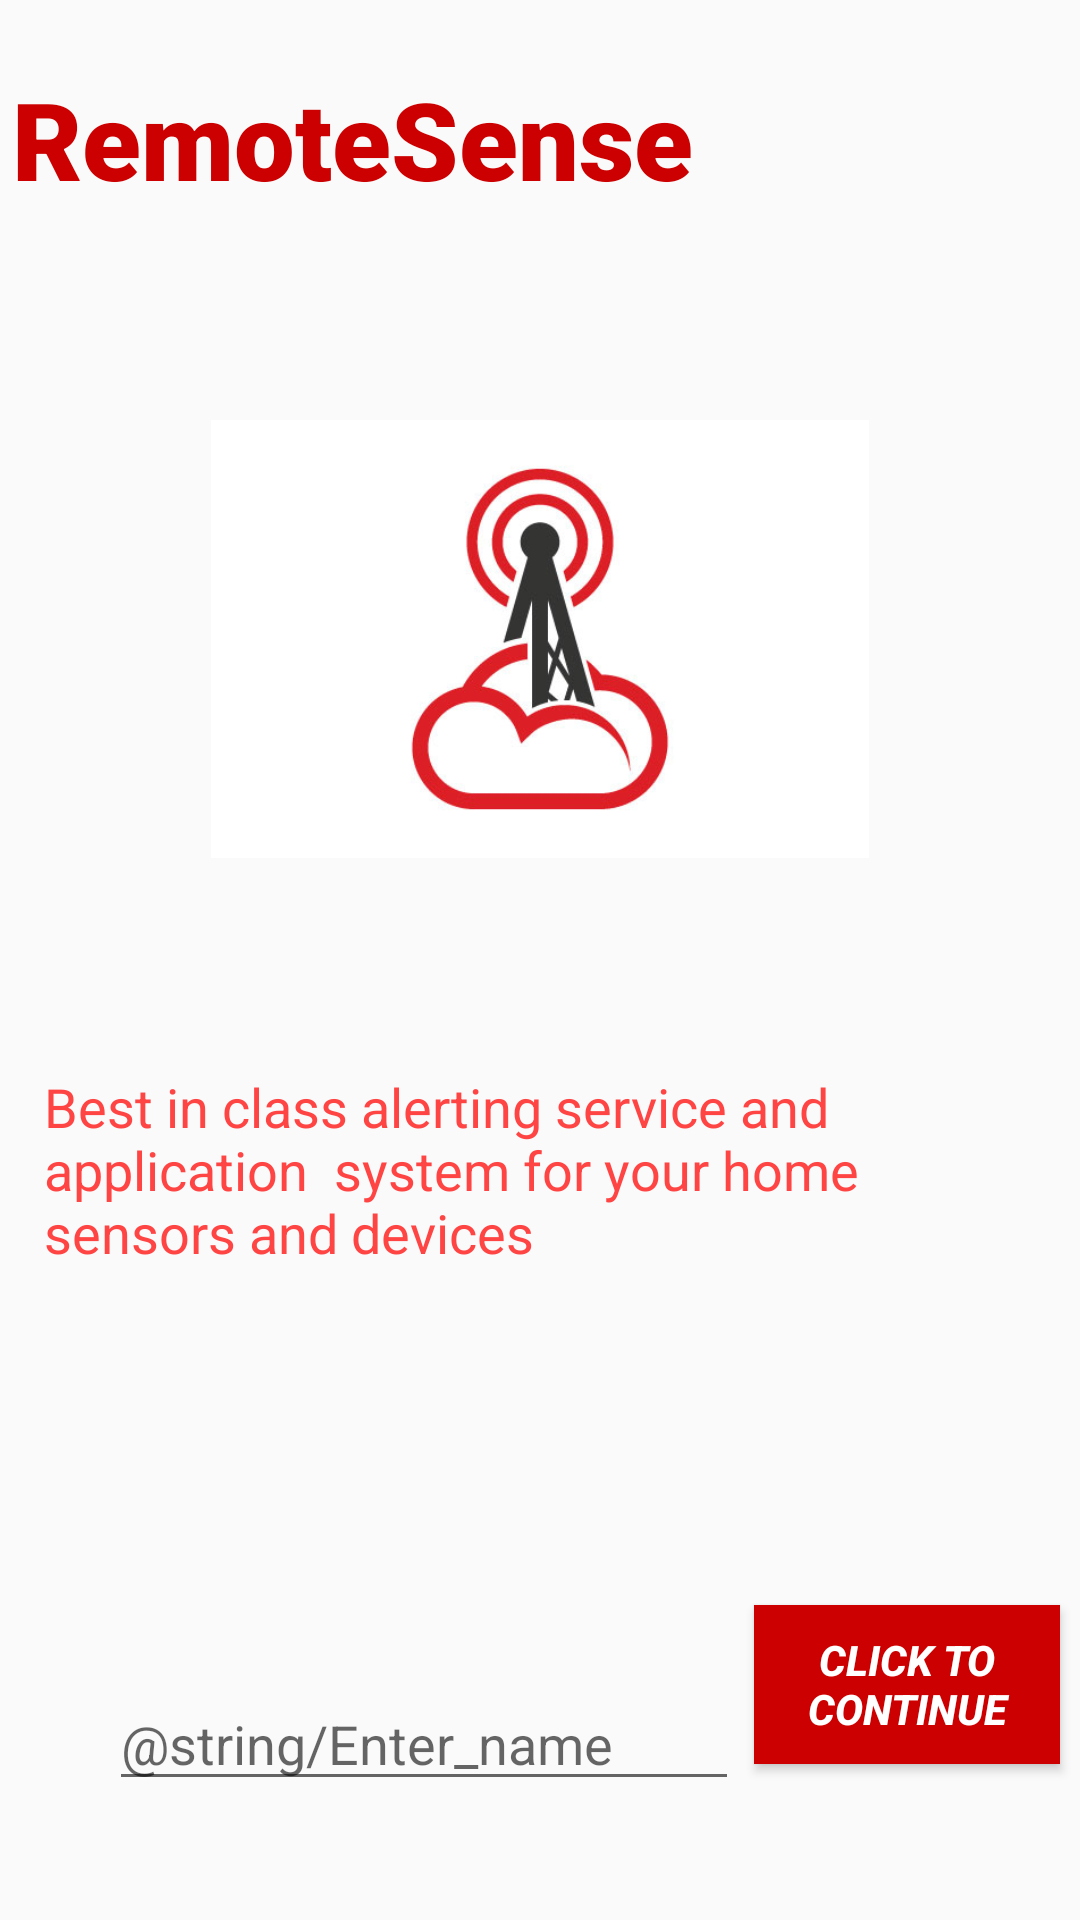

Icon click points for this 1080 × 1920 phone screenshot, format (x=x, y=y):
iot: (x=540, y=639)
